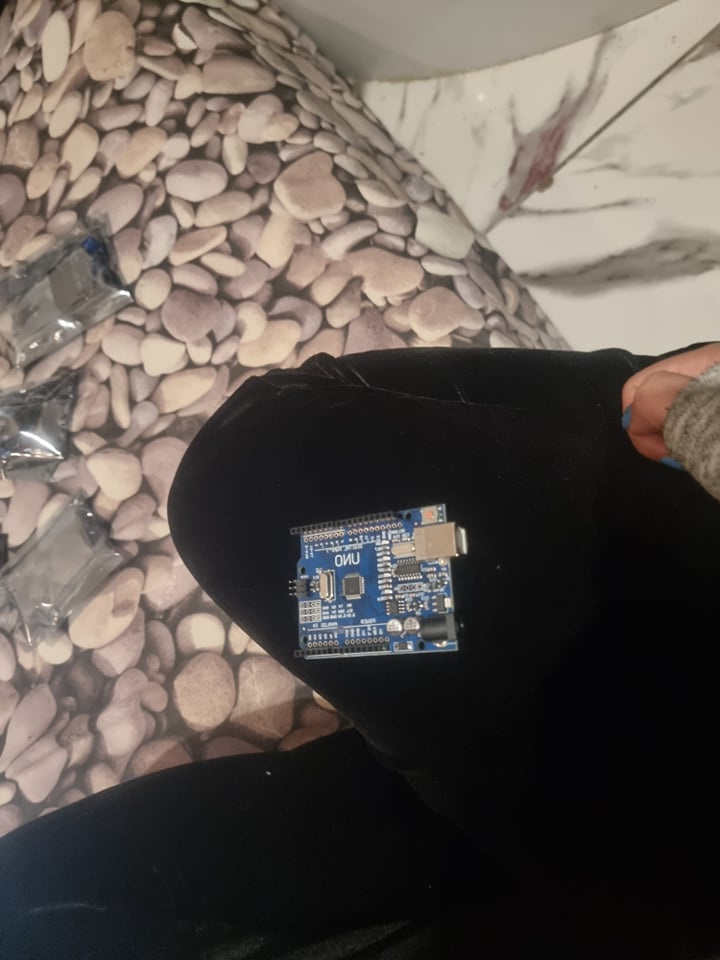UNO R3: (288, 500, 467, 663)
